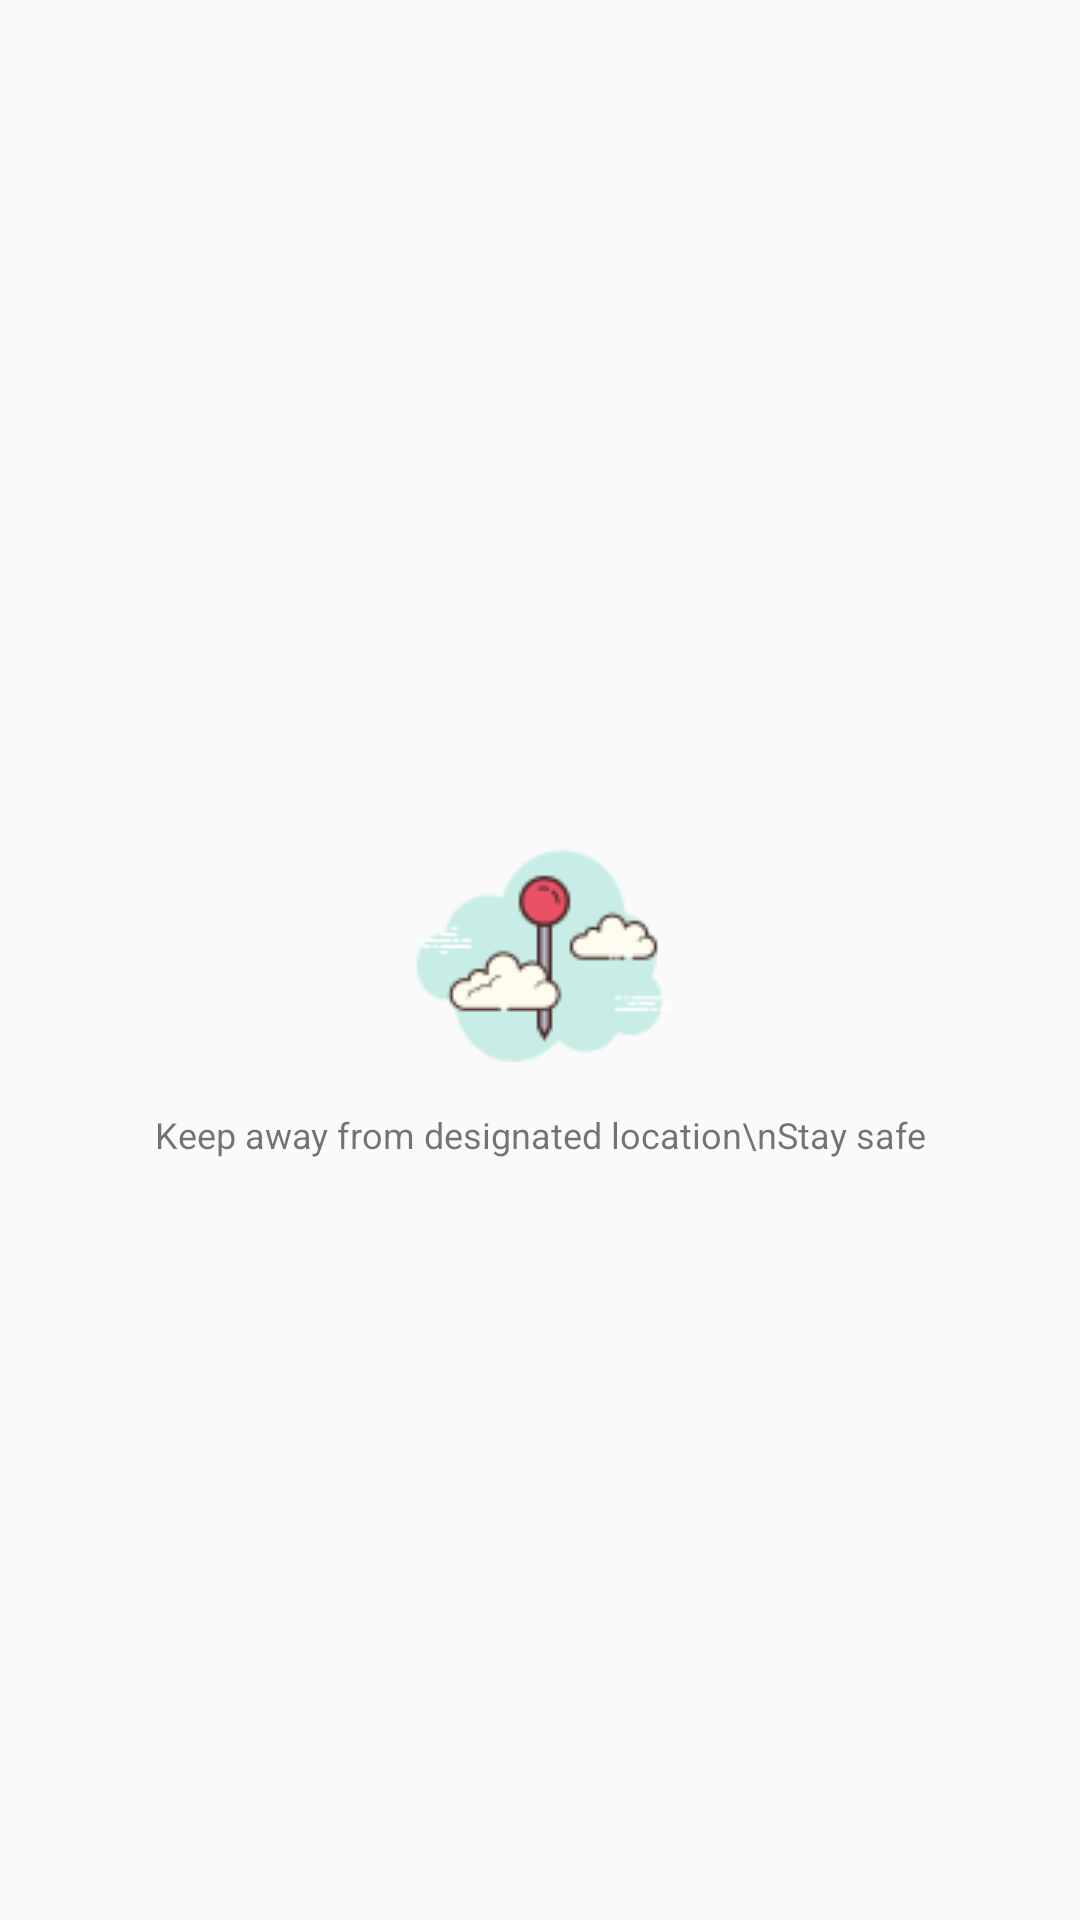

Icon bounding boxes for this 1080px×1920px phone screenshot, format (x1, y1, x2, y2):
geofence: (417, 851, 662, 1062)
